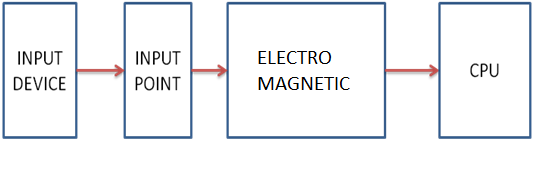arrow: (385, 63, 441, 78), (76, 62, 124, 78), (192, 63, 229, 77)
process: (225, 1, 388, 141), (435, 1, 533, 141), (2, 1, 79, 141), (121, 1, 193, 140)
text: (255, 47, 351, 94), (10, 48, 68, 95), (132, 49, 182, 95), (469, 62, 501, 78)
